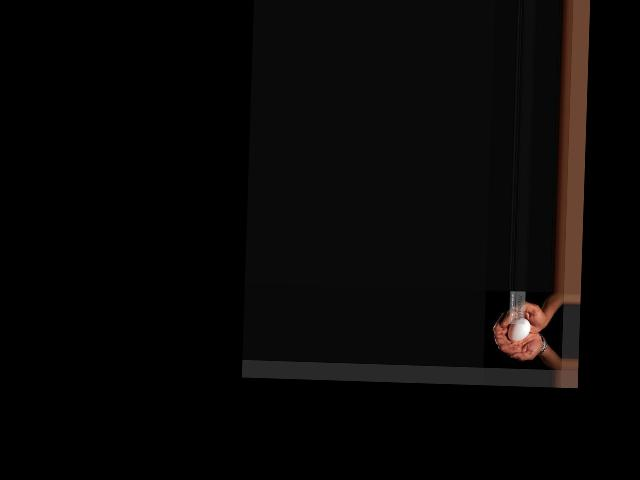egg: (506, 318, 530, 342)
